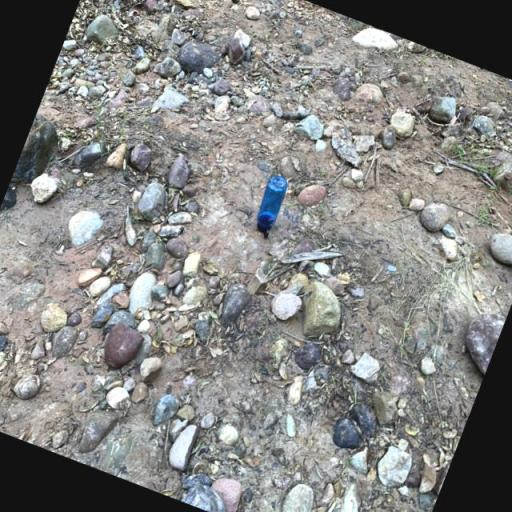bottle: (249, 172, 291, 240)
